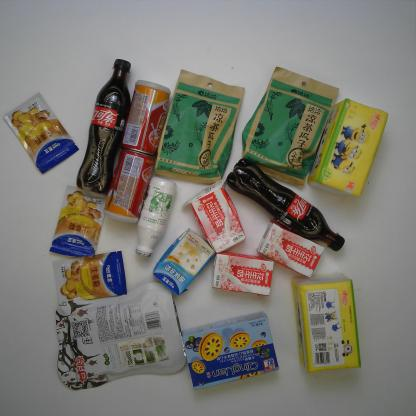Canned Food: (102, 145, 156, 223), (118, 80, 172, 156)
Dessert: (181, 313, 279, 390)
Dried Food: (243, 66, 341, 188), (154, 69, 245, 184)
Dried Fruit: (55, 282, 188, 389)
Drink: (226, 159, 344, 251), (76, 59, 132, 195)
Milk: (182, 178, 246, 253), (154, 229, 216, 294), (257, 220, 324, 277), (136, 176, 176, 258), (212, 254, 274, 296)
Seasoner: (4, 92, 80, 173), (48, 185, 109, 260), (52, 251, 128, 302)
Tissue: (306, 99, 389, 196), (292, 274, 361, 374)
